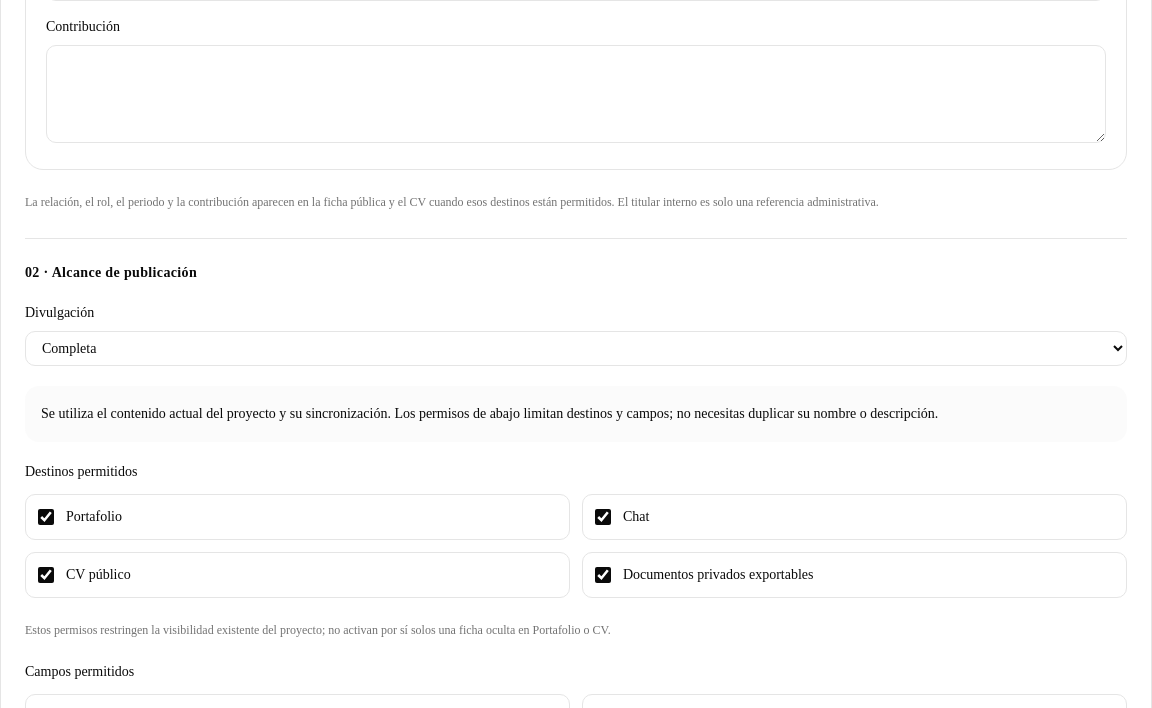
Test case: disclosure editing experience › shows approved bilingual content only when applicable and prevents invalid selective publication
(page scrolled)
Select "Selectiva" in the dropdown labelled "Divulgación" at (576, 348), box [25,331,1127,366]
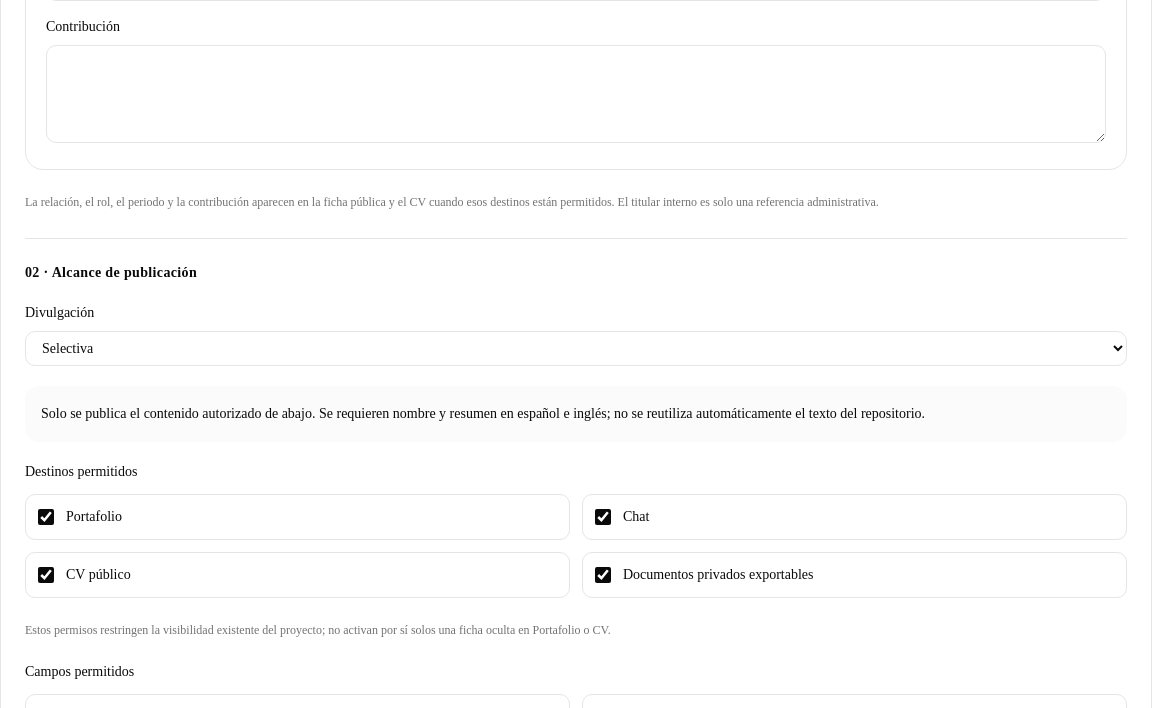
Select "Completa" in the dropdown labelled "Divulgación" at (576, 348), box [25,331,1127,366]
(page scrolled)
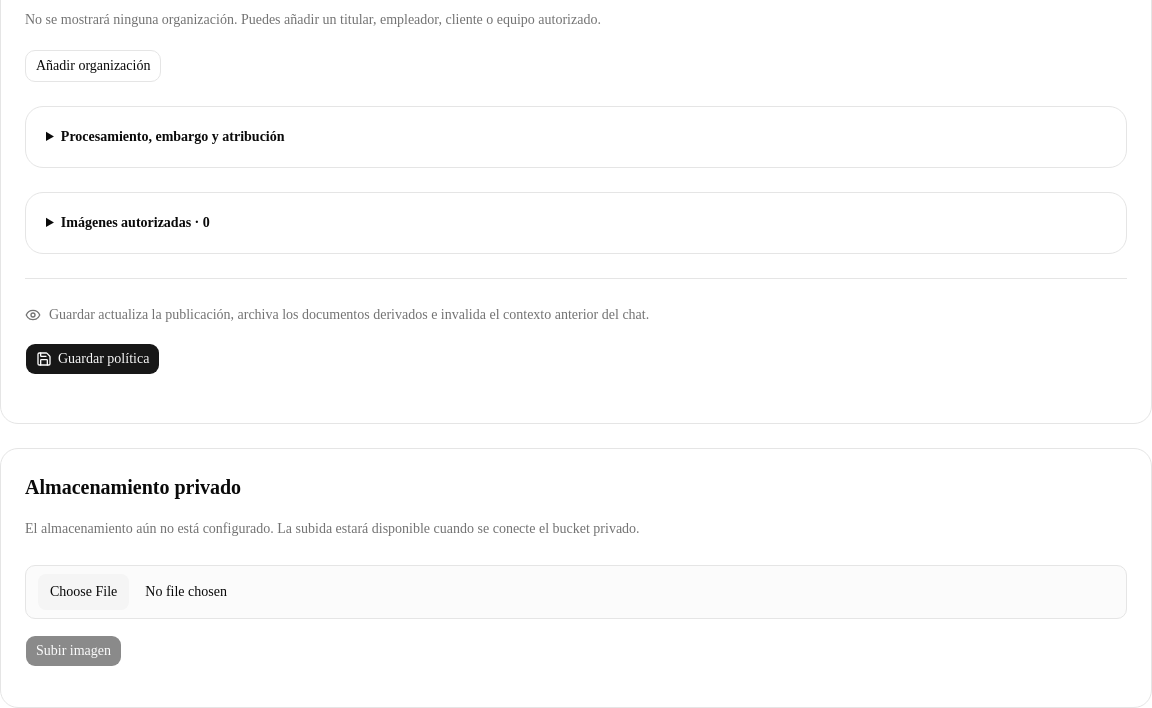
Now the submit button is enabled, box [25,343,160,375]
